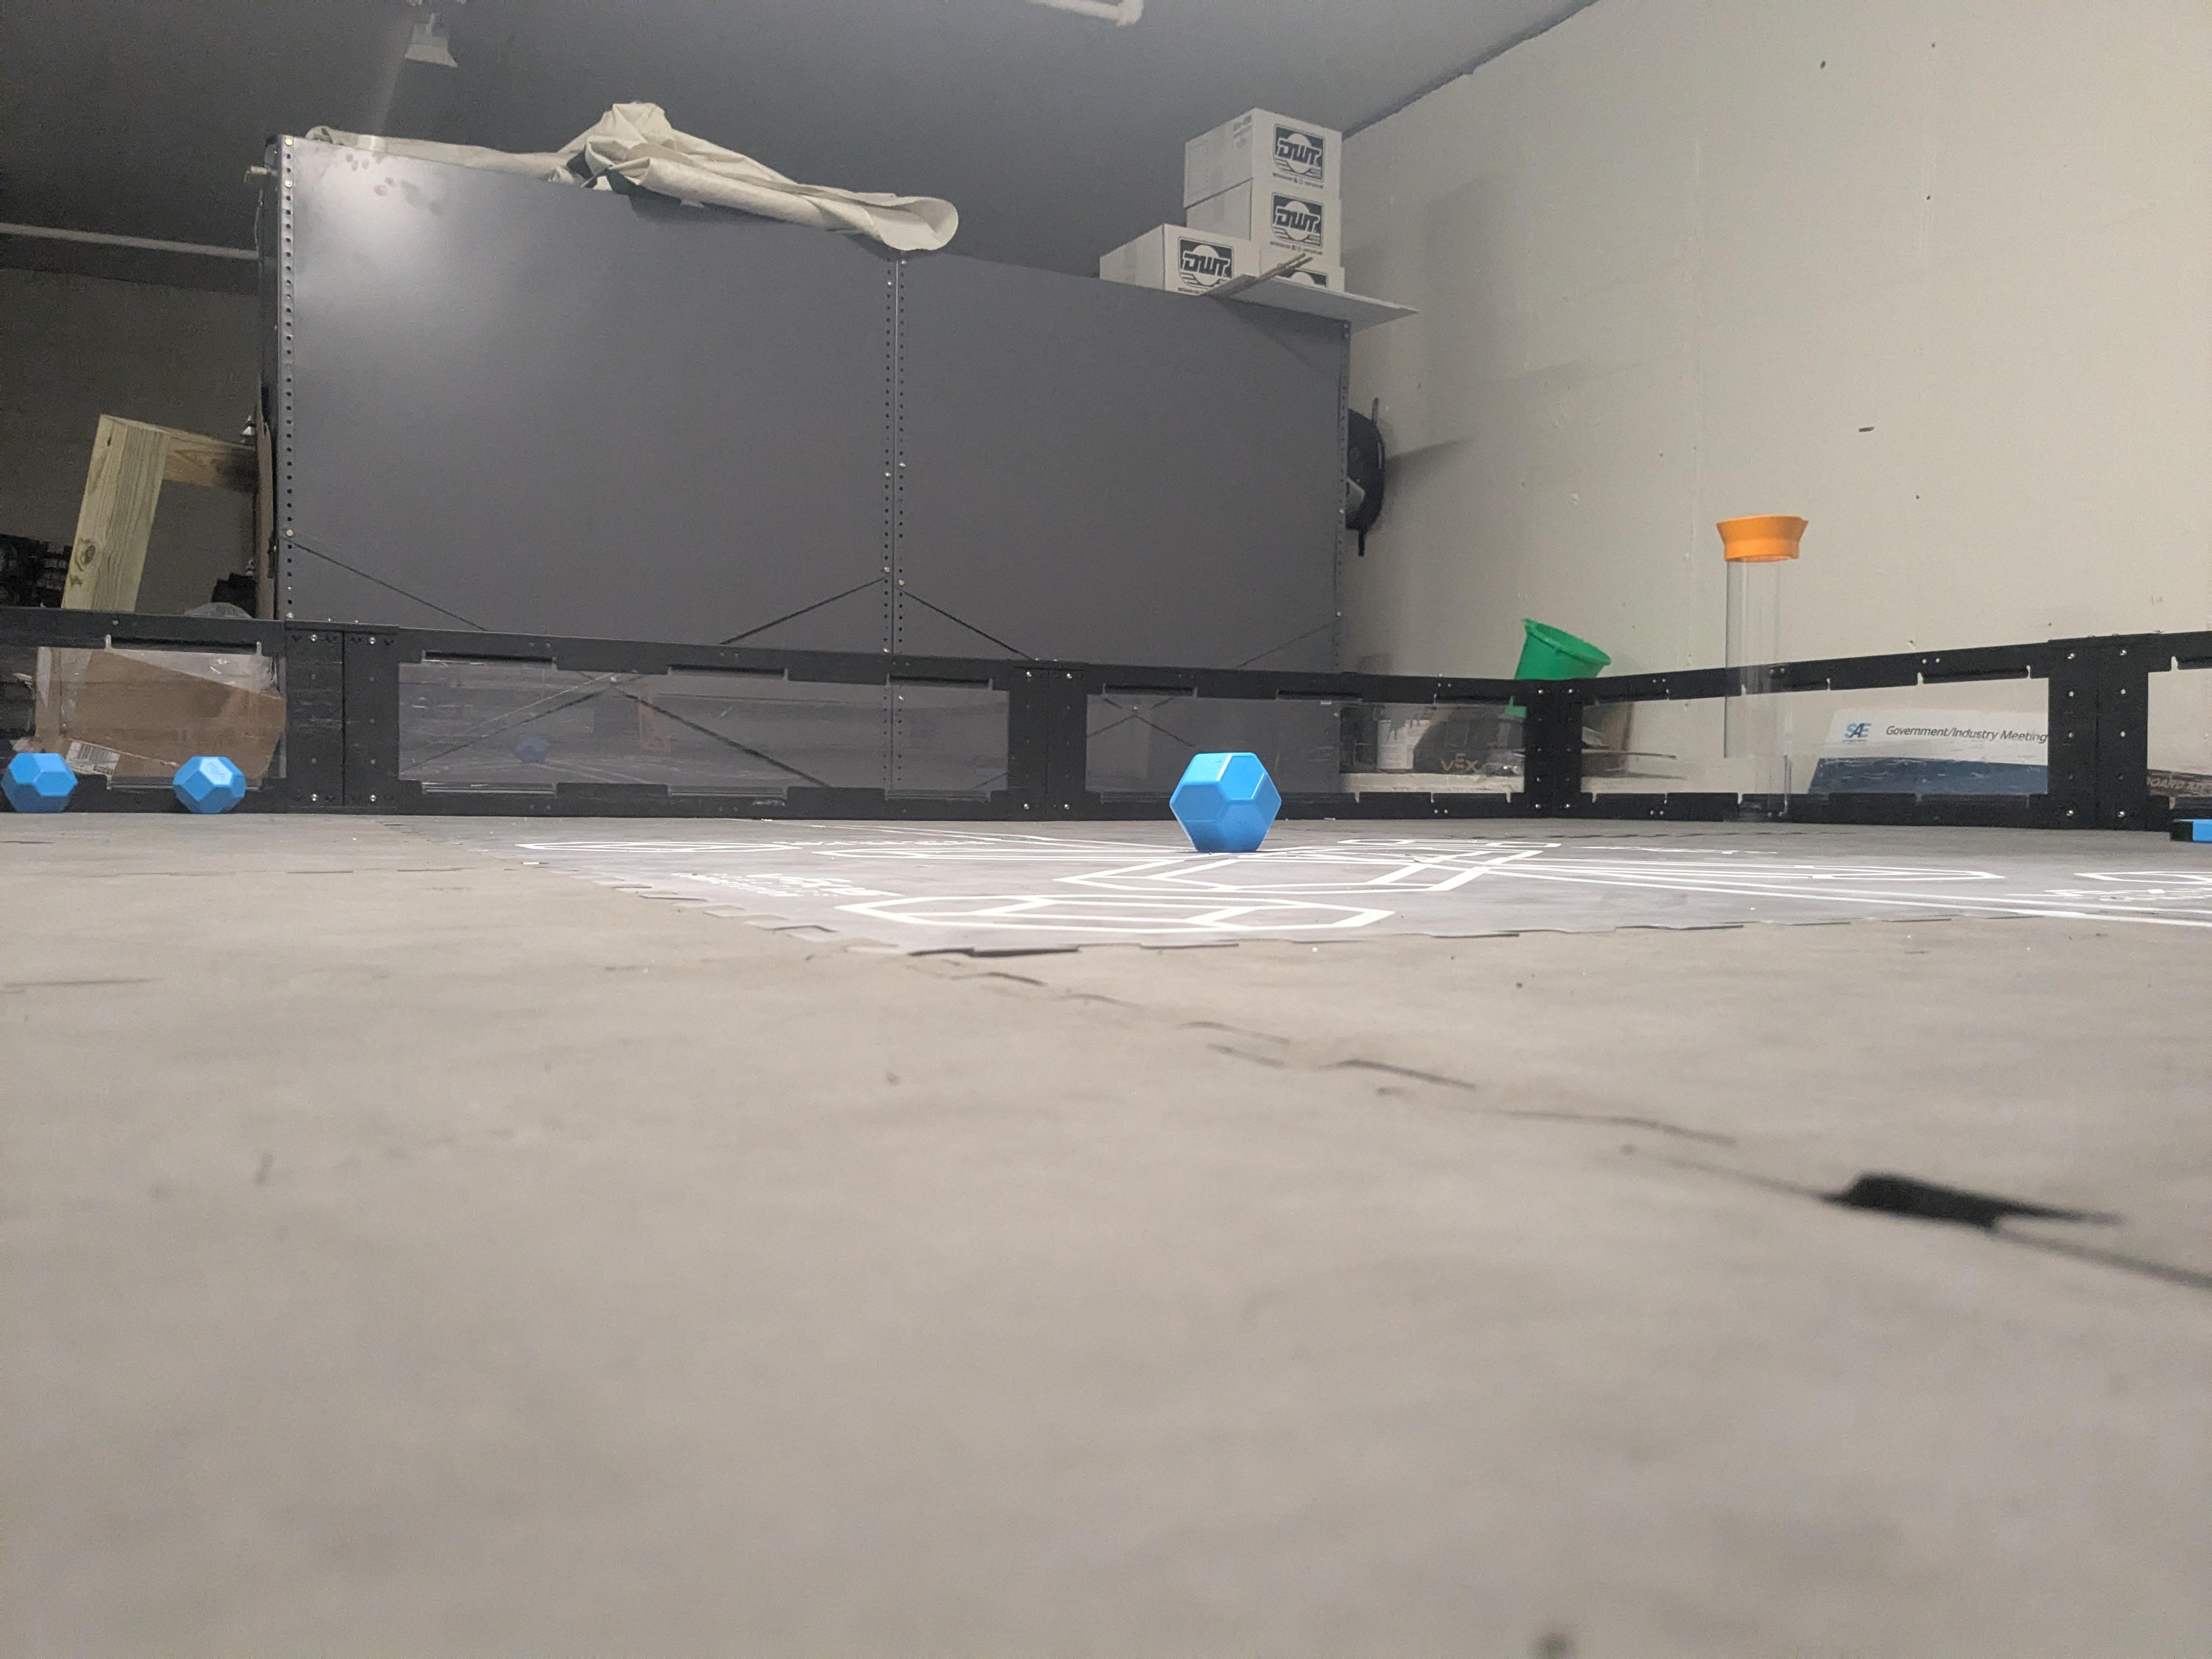Vex-Pieces-BLUE: (1170, 751, 1282, 847), (172, 756, 247, 814), (3, 755, 78, 809)
